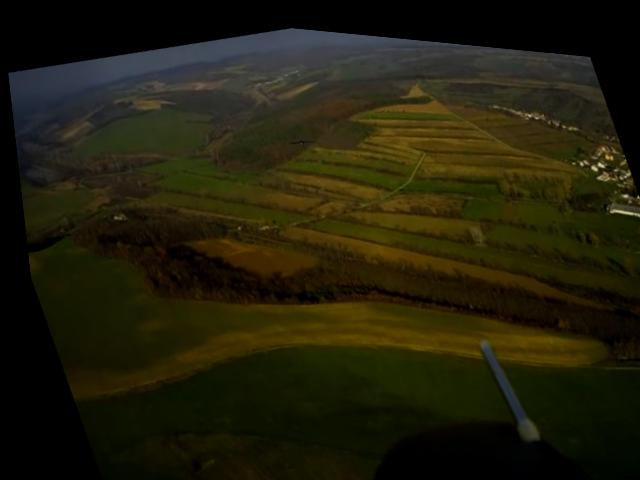iha: (285, 129, 310, 142)
